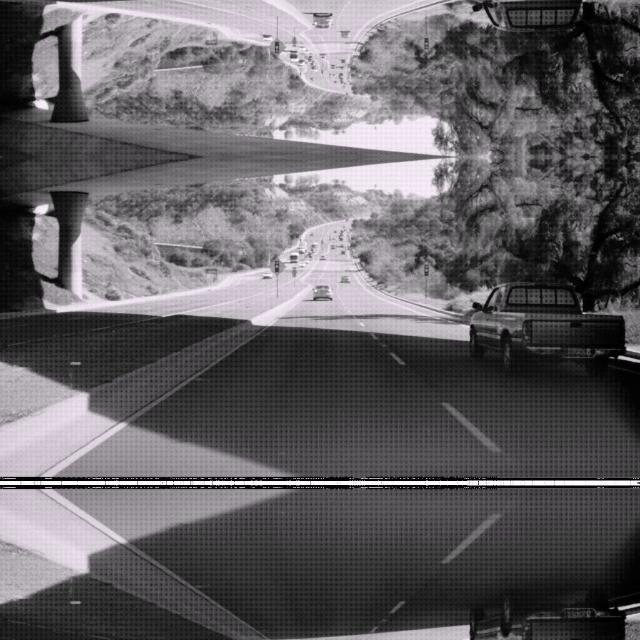signalAhead: (266, 253, 286, 274), (266, 38, 286, 58), (416, 259, 434, 279), (416, 33, 434, 53)
